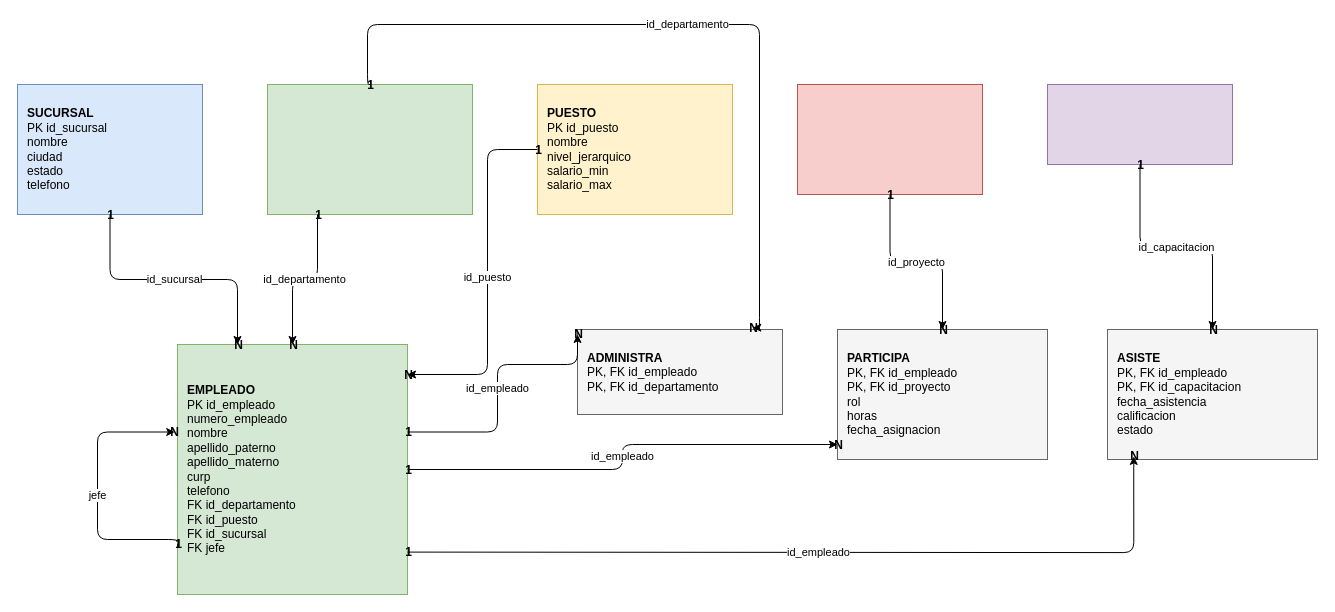
This 1335x612 diagram has some shape labels left out. The shapes that lost their labels are listed below. From the top down, each one's centre as x and y in pixels, then its label:
At [889,139]: "PROYECTO PK id_proyecto nombre fecha_inicio fecha_termino".
At [1139,124]: "CAPACITACION PK id_capacitacion nombre".
At [369,149]: "DEPARTAMENTO PK id_departamento nombre ubicacion presupuesto clave_departamento".
